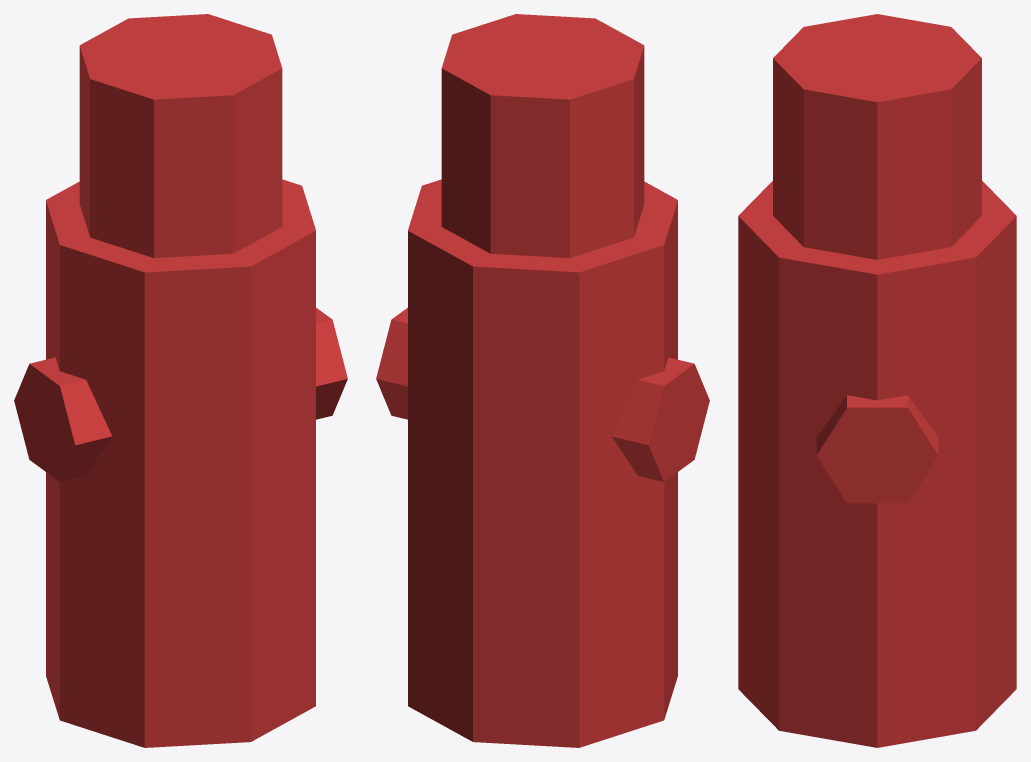
File: hydrant.glb
3 renders of one model, left to right at view 1: azimuth 30°, elevation 25°; view 2: azimuth 150°, elevation 25°; view 3: azimuth 270°, elevation 25°, orthographic.
Parts seen in each view (by area): view 1: Cylinder; view 2: Cylinder; view 3: Cylinder.
Part boxes in pixels (<box>): Cylinder: <box>14,14,347,747</box>; Cylinder: <box>376,14,709,747</box>; Cylinder: <box>738,14,1016,747</box>.
Size of the model in its own units: 0.36 by 0.8 by 0.32.
